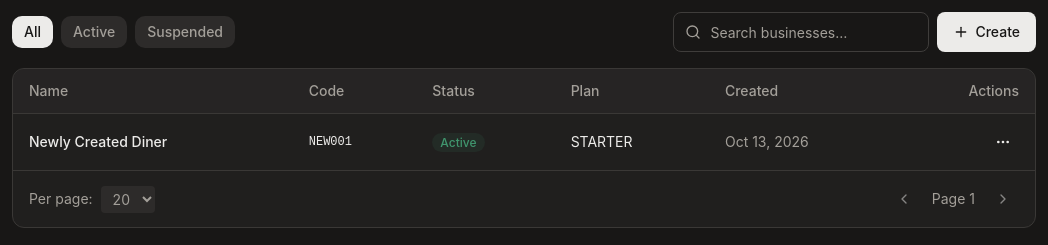
Test case: BusinessesPage search › queries the backend with the search term (not just filtering the current page) so a business on a later page is actually found
Expected: the text "Newly Created Diner" is shown, [13,114,293,170]
Expected: the text "Mama Thandi's Kitchen" is not shown
In the field with placeholder "Search businesses…": (801, 32) [673,12,929,52], type "thandi"
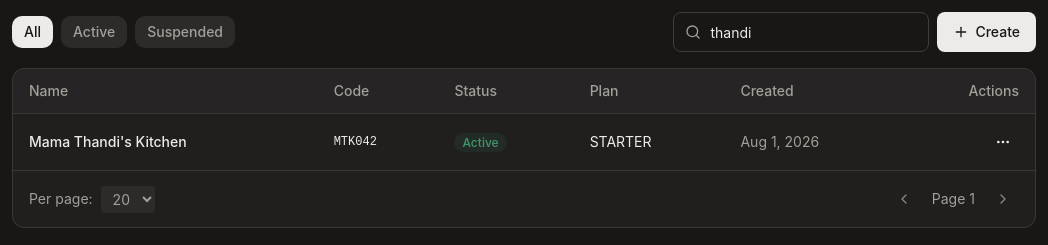
Result: the text "Mama Thandi's Kitchen" is shown at [13,114,318,170]
Result: the text "Newly Created Diner" is gone
